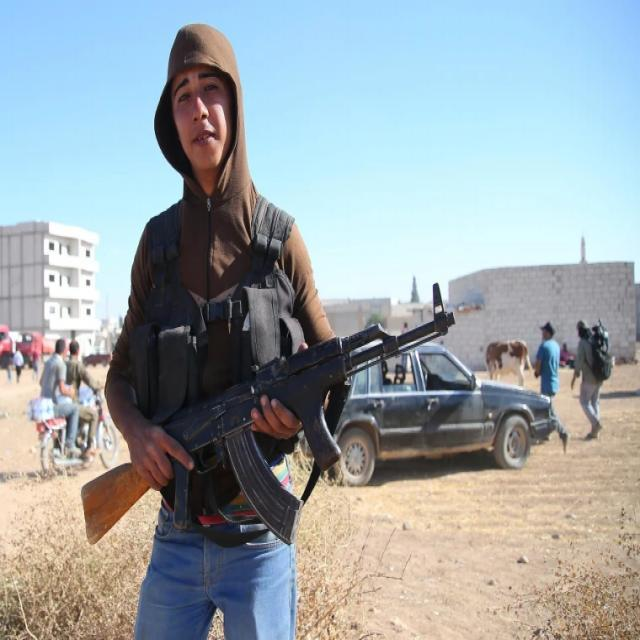weapon: (80, 284, 458, 546)
